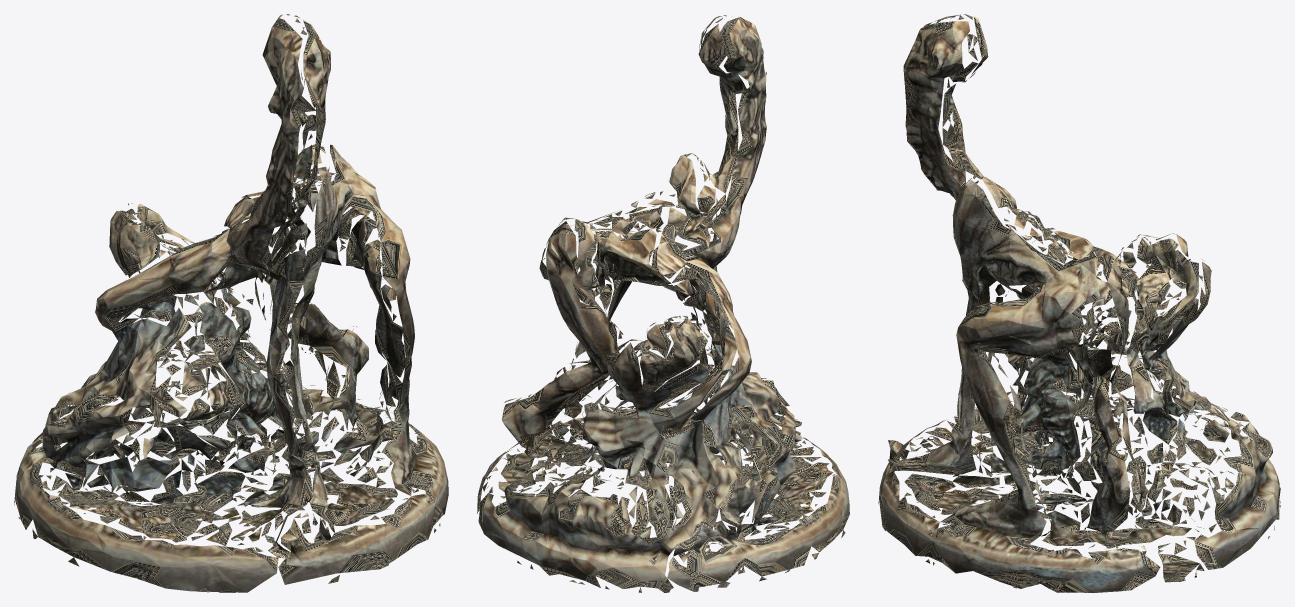
The model's file is warped_one.glb.
3 views of the same model, side by side, from view 1: azimuth 30°, elevation 25°; view 2: azimuth 150°, elevation 25°; view 3: azimuth 270°, elevation 25° (orthographic). The views are drawn at different scales.
Parts seen in each view (by area): view 1: geometry_0; view 2: geometry_0; view 3: geometry_0.
Boxes of the visible parts, x1,y1,x2,y2 form: geometry_0: (14,14,448,592); geometry_0: (477,15,849,592); geometry_0: (878,14,1280,592).
Size of the model in its own units: 0.0177 by 0.024 by 0.0178.
1 material, 1 textured.
